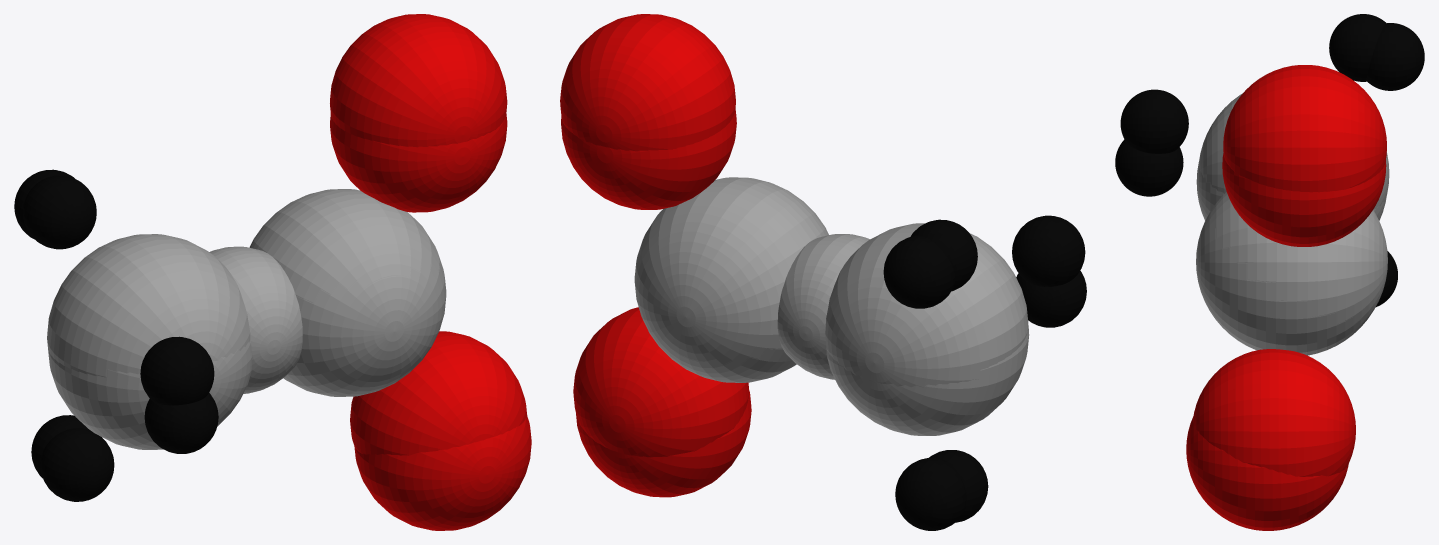
The model's file is Lead(II) Acetate.glb.
The picture shows the model from 3 angles, left to right: view 1: azimuth 30°, elevation 25°; view 2: azimuth 150°, elevation 25°; view 3: azimuth 270°, elevation 25°; orthographic projection. The views are drawn at different scales.
Visible parts, largest first — view 1: world; view 2: world; view 3: world.
Part boxes in pixels (x1,y1,x2,y2): world: (14,14,531,530); world: (560,14,1086,530); world: (1115,14,1424,530).
Bounding box in the file's own units: 3.47 × 3.62 × 2.27.
